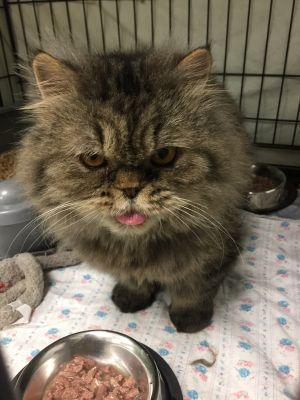persian: (12, 35, 240, 252)
